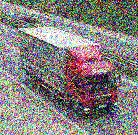car: (21, 12, 39, 23)
